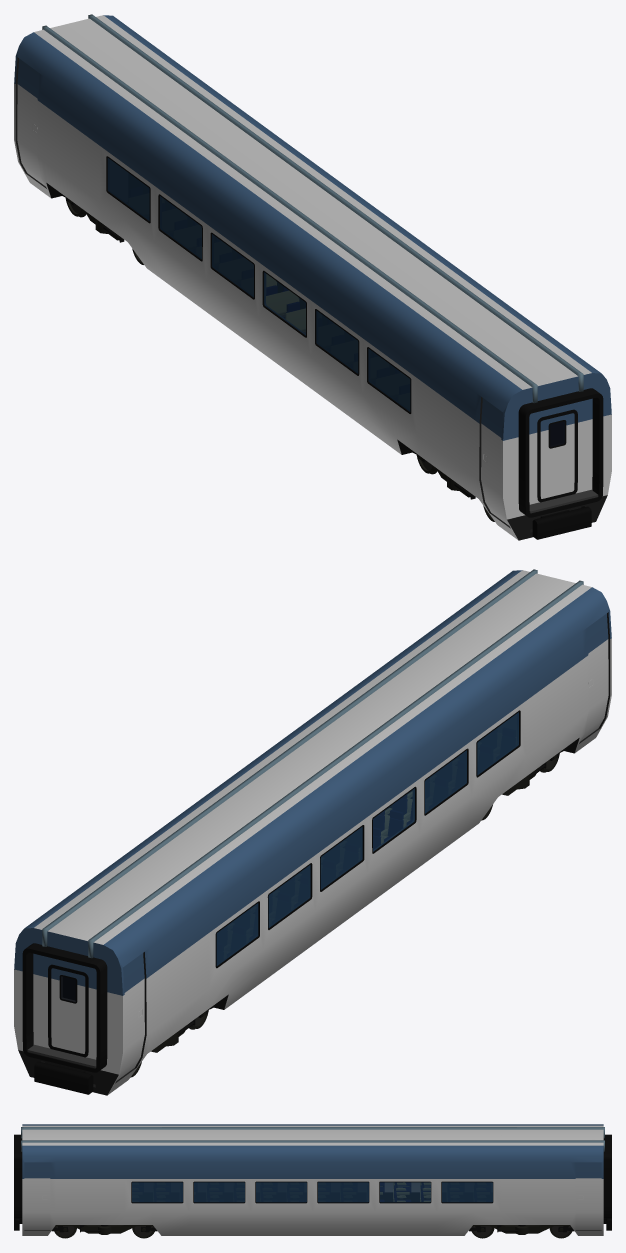
Rendered from wagon.obj.
3 renders of one model, top to bottom at view 1: azimuth 30°, elevation 25°; view 2: azimuth 150°, elevation 25°; view 3: azimuth 270°, elevation 25°, orthographic. The views are drawn at different scales.
Parts seen in each view (by area): view 1: wagon_Cube.001, Windows_Cube.005, ElectricBox_Cube.008, Inbetween_Cube.011, BackDoor_Cube.003, wheels_Cylinder.002, Seats_Cube.009; view 2: wagon_Cube.001, Windows_Cube.005, ElectricBox_Cube.008, Inbetween_Cube.011, BackDoor_Cube.003, Seats_Cube.009, wheels_Cylinder.002; view 3: wagon_Cube.001, Windows_Cube.005, ElectricBox_Cube.008, wheels_Cylinder.002, Inbetween_Cube.011, Seats_Cube.009.
Part boxes in pixels (x1,y1,x2,y2): wagon_Cube.001: [14, 15, 611, 540]; Windows_Cube.005: [106, 156, 411, 413]; ElectricBox_Cube.008: [42, 14, 583, 403]; Inbetween_Cube.011: [518, 388, 603, 517]; BackDoor_Cube.003: [537, 409, 577, 502]; wheels_Cylinder.002: [59, 192, 494, 521]; Seats_Cube.009: [266, 275, 305, 332]; wagon_Cube.001: [14, 570, 611, 1095]; Windows_Cube.005: [215, 710, 520, 968]; ElectricBox_Cube.008: [42, 569, 583, 958]; Inbetween_Cube.011: [22, 943, 107, 1072]; BackDoor_Cube.003: [48, 964, 88, 1057]; Seats_Cube.009: [373, 792, 412, 849]; wheels_Cylinder.002: [130, 748, 565, 1077]; wagon_Cube.001: [14, 1124, 611, 1235]; Windows_Cube.005: [131, 1181, 493, 1203]; ElectricBox_Cube.008: [21, 1127, 604, 1151]; wheels_Cylinder.002: [52, 1225, 574, 1238]; Inbetween_Cube.011: [14, 1134, 611, 1218]; Seats_Cube.009: [380, 1183, 430, 1201].
Size of the model in its own units: 292 by 412 by 2315.
